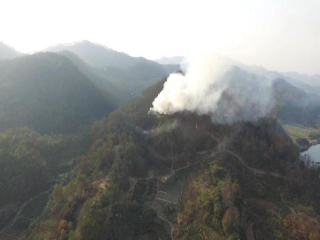smoke: (146, 51, 271, 128)
